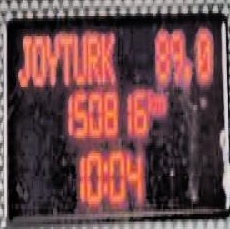-: (183, 59, 190, 82)
0: (108, 145, 123, 204), (194, 28, 211, 79), (85, 148, 100, 204), (86, 89, 101, 135)
1: (75, 150, 85, 201), (123, 89, 132, 135), (64, 89, 71, 135)
4: (124, 150, 141, 201)
5: (73, 89, 87, 135)
6: (131, 87, 146, 135)
8: (153, 28, 168, 82), (102, 89, 118, 135)
9: (169, 28, 183, 82)
X: (71, 28, 86, 82), (99, 28, 114, 82), (30, 31, 45, 84), (16, 31, 30, 87), (58, 31, 72, 84), (45, 31, 58, 87), (86, 31, 99, 84), (154, 89, 164, 112), (101, 158, 106, 193), (147, 84, 153, 112)
